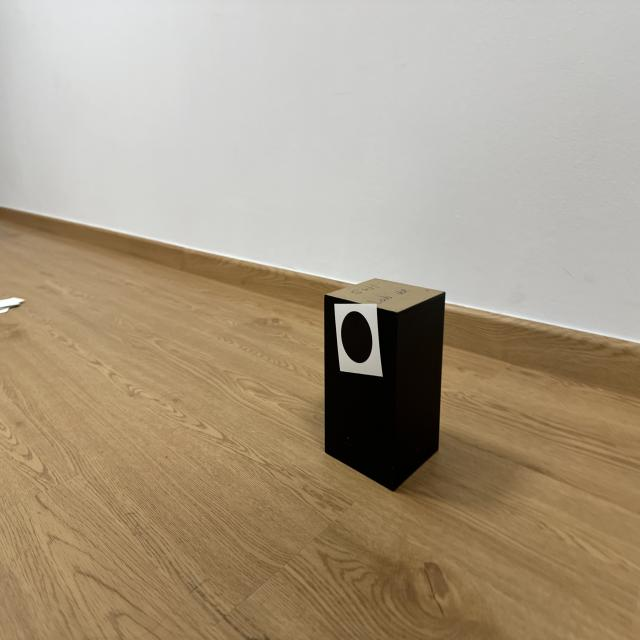CIRCLE: (341, 312, 372, 363)
